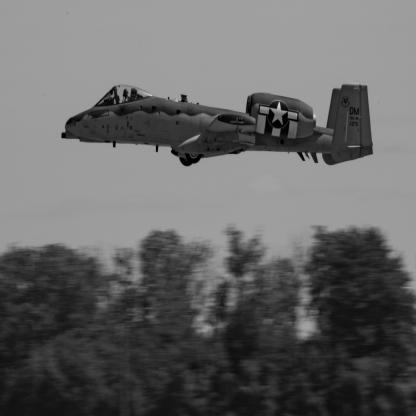A10: (62, 83, 374, 168)
